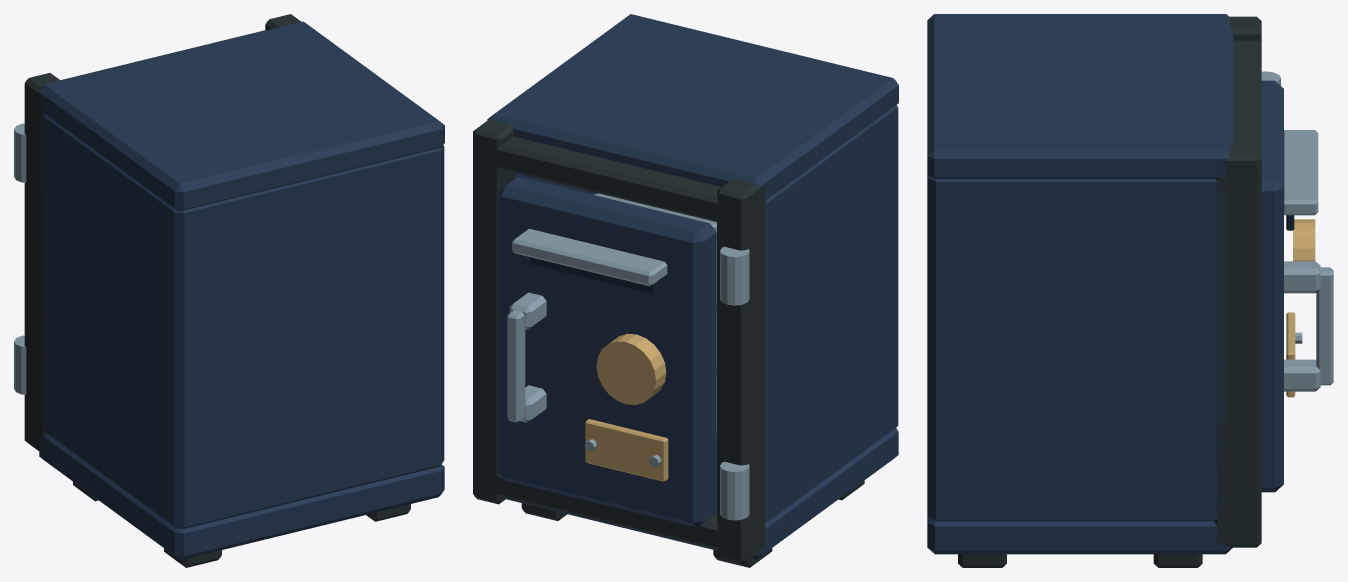
The model's file is restaurant_cash_drop_safe.glb.
3 views of the same model, side by side, from view 1: azimuth 30°, elevation 25°; view 2: azimuth 150°, elevation 25°; view 3: azimuth 270°, elevation 25° (orthographic). The views are drawn at different scales.
Parts seen in each view (by area): view 1: body_back_wall, body_side_wall (×2), body_roof, body_floor, front_side_frame, hinge_pin (×2); view 2: moving_door, body_roof, body_side_wall, front_side_frame (×2), front_cross_frame (×2), body_floor, moving_drop_canopy, moving_dial, moving_bank_id_plate, hinge_pin (×2), moving_handle_grip, moving_handle_mount (×2) (+1 smaller); view 3: body_side_wall, body_roof, front_side_frame (×2), body_floor, moving_door, body_back_wall, front_cross_frame (×2), moving_drop_canopy, moving_handle_mount (×2), moving_handle_grip, rubber_support (×2), moving_dial (+1 smaller).
Boxes of the visible parts, bbox=[...] form: body_back_wall: bbox=[162, 149, 441, 528]; body_side_wall (×2): bbox=[39, 114, 444, 528]; body_roof: bbox=[39, 21, 444, 210]; body_floor: bbox=[39, 434, 444, 559]; front_side_frame: bbox=[24, 73, 60, 452]; hinge_pin (×2): bbox=[14, 123, 26, 394]; moving_door: bbox=[498, 176, 716, 527]; body_roof: bbox=[487, 14, 898, 200]; body_side_wall: bbox=[765, 105, 898, 522]; front_side_frame (×2): bbox=[473, 118, 765, 563]; front_cross_frame (×2): bbox=[473, 136, 765, 552]; body_floor: bbox=[506, 428, 898, 559]; moving_drop_canopy: bbox=[512, 228, 667, 286]; moving_dial: bbox=[596, 333, 666, 405]; moving_bank_id_plate: bbox=[585, 419, 668, 481]; hinge_pin (×2): bbox=[720, 246, 749, 520]; moving_handle_grip: bbox=[507, 310, 525, 422]; moving_handle_mount (×2): bbox=[509, 292, 546, 422]; body_side_wall: bbox=[927, 175, 1224, 521]; body_roof: bbox=[927, 14, 1233, 178]; front_side_frame (×2): bbox=[1214, 16, 1261, 547]; body_floor: bbox=[927, 516, 1232, 554]; moving_door: bbox=[1261, 80, 1283, 492]; body_back_wall: bbox=[927, 175, 960, 520]; front_cross_frame (×2): bbox=[1214, 40, 1261, 536]; moving_drop_canopy: bbox=[1284, 130, 1318, 215]; moving_handle_mount (×2): bbox=[1284, 261, 1320, 391]; moving_handle_grip: bbox=[1316, 267, 1333, 385]; rubber_support (×2): bbox=[958, 554, 1202, 567]; moving_dial: bbox=[1293, 219, 1315, 261].
Size of the model in its own units: 0.692 by 0.958 by 0.8235.
